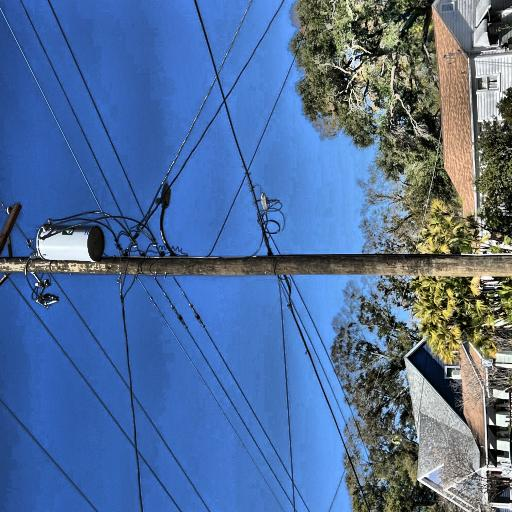pole: (112, 80, 134, 512)
street light: (124, 288, 194, 326)
transformer: (122, 152, 162, 230)
